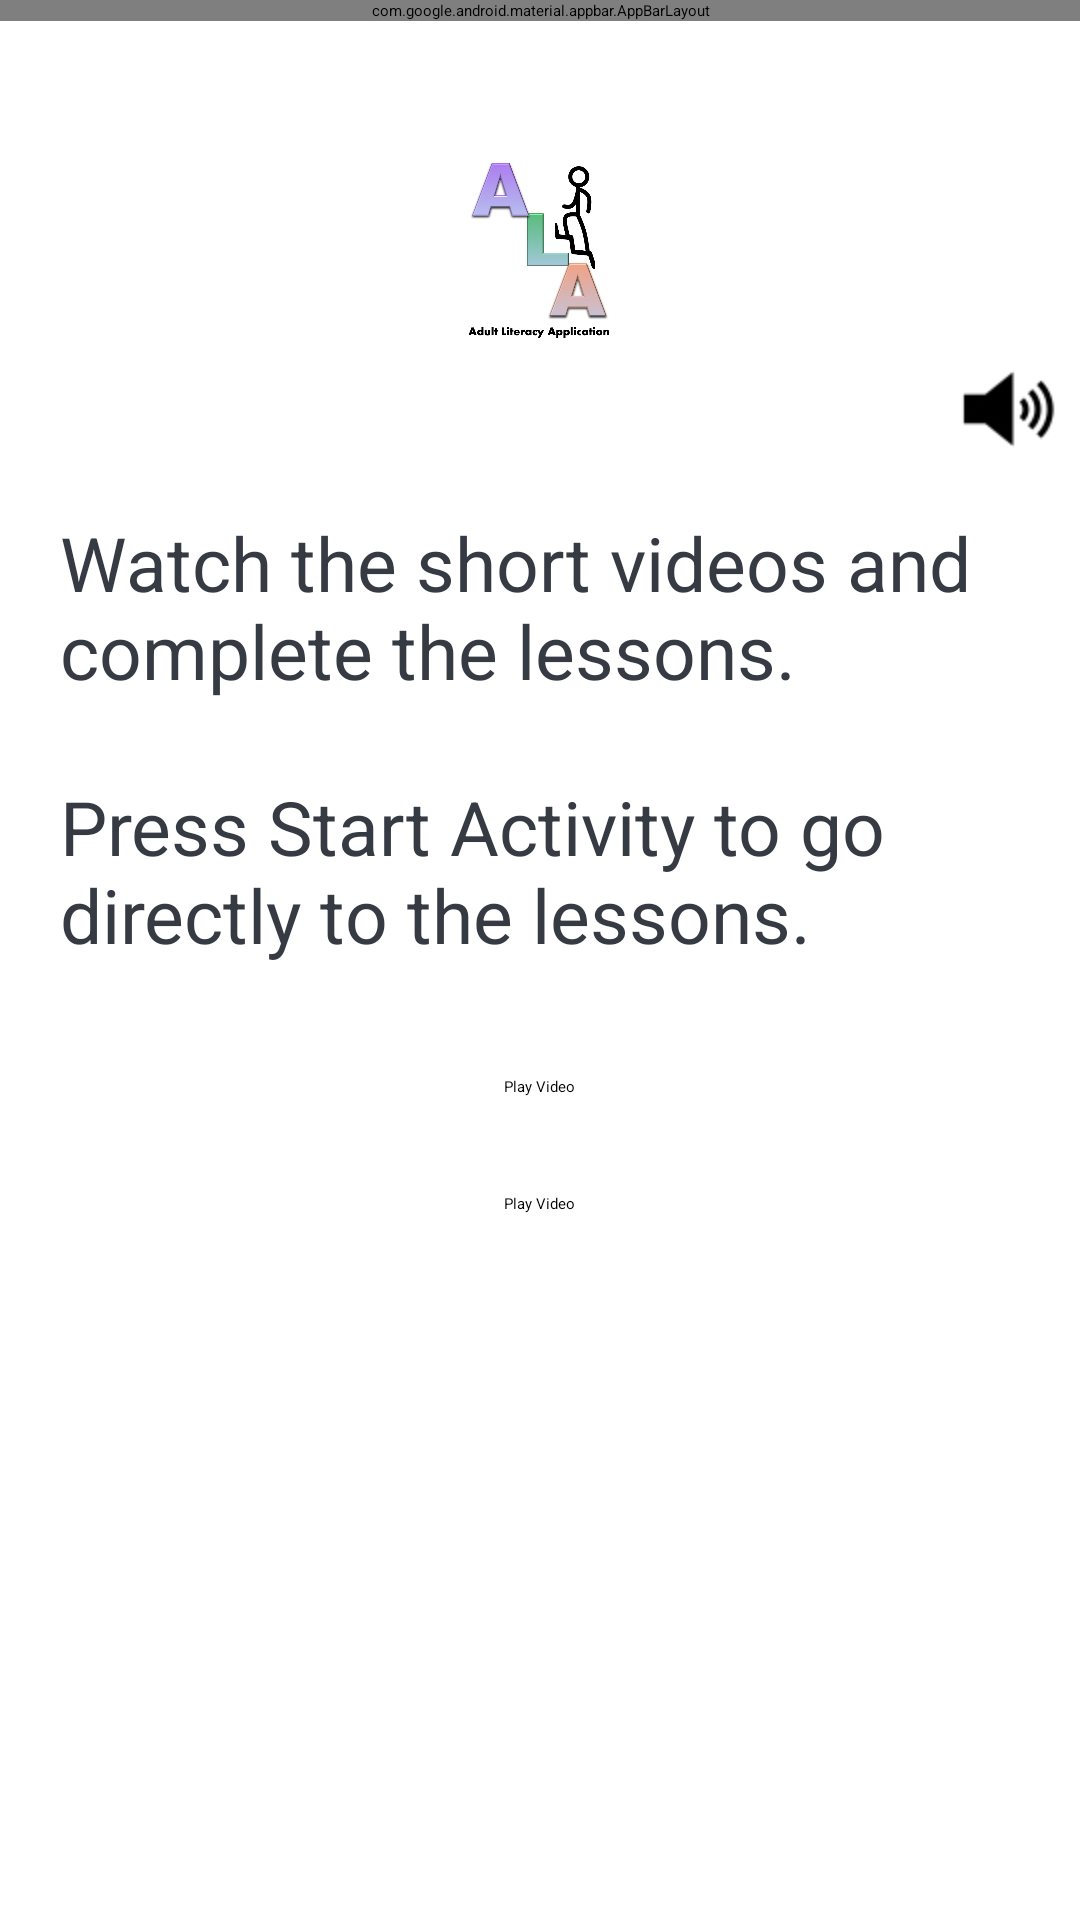

Screen size 1080x1920. Icon name, then its center in pixels as [x,y]:
sound: [1009,409]
